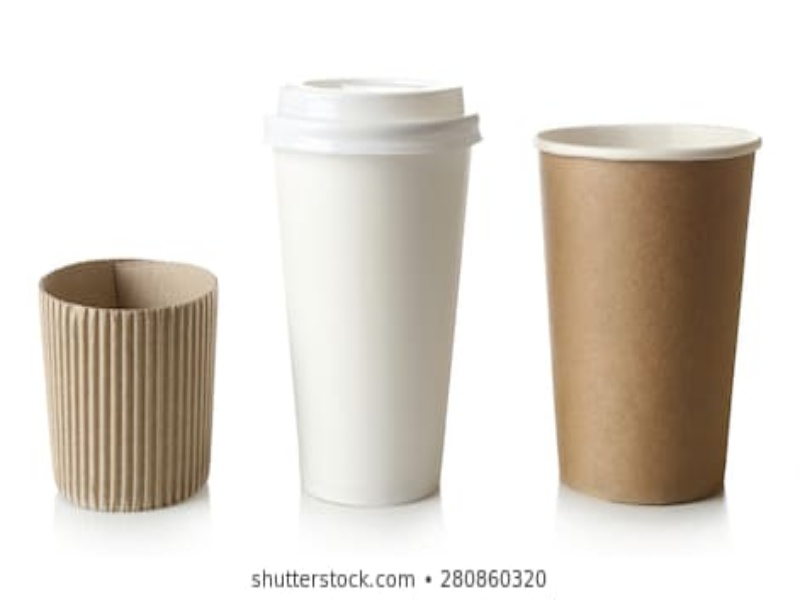coffee-lid: (265, 79, 486, 153)
plastic-cup: (263, 70, 484, 506), (533, 123, 762, 507)
